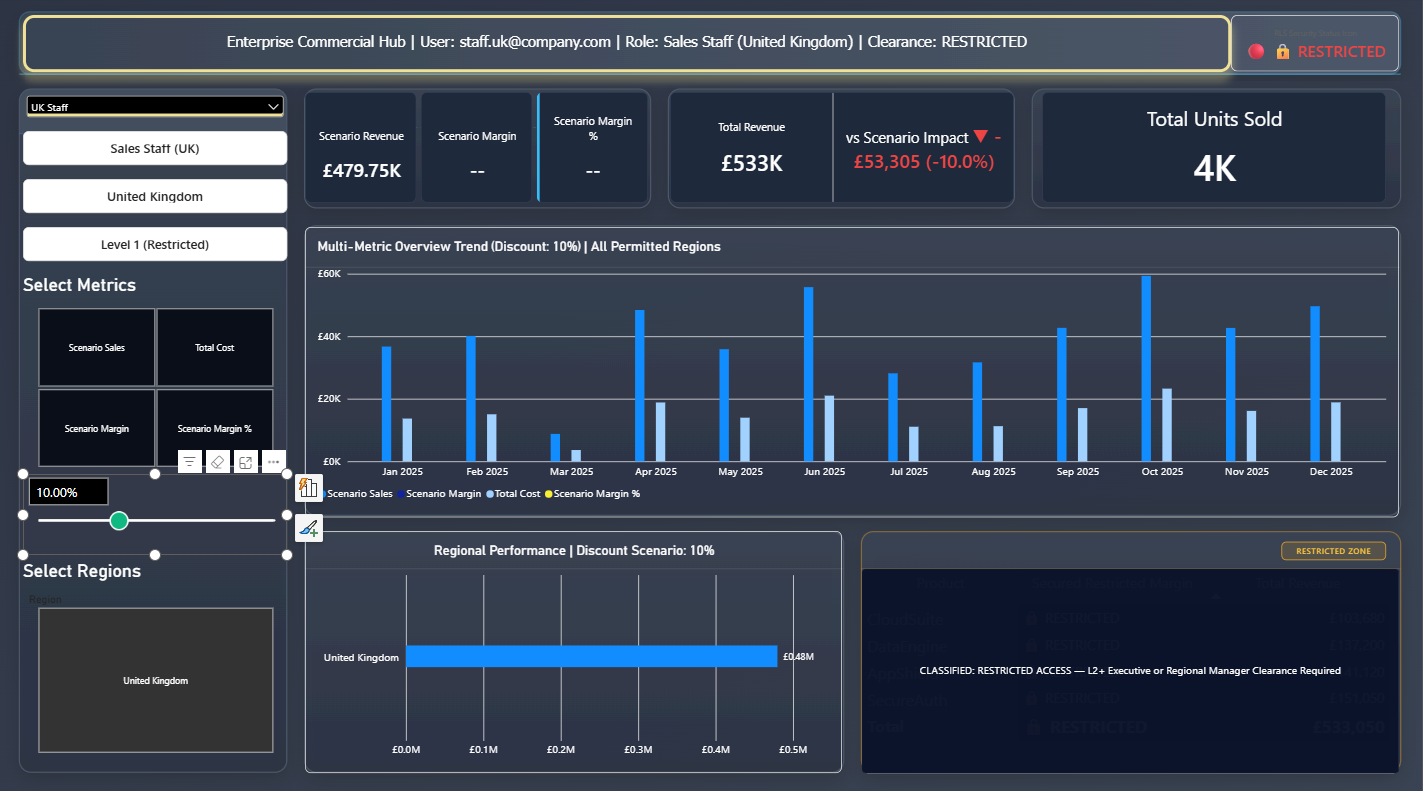

This screenshot's page, from the dashboard's own definition file:
{"tool":"powerbi","page":{"name":"Page 1","canvas":[1920,1080],"ordinal":0},"visuals":[{"type":"card","fields":{"Values":["Key Measures.Top Governance Banner"]},"box":[33.7,25.6,1626.7,76.8],"z":0},{"type":"slicer","title":"Select Metrics","fields":{"Values":["Metric Parameter.Metric Parameter"]},"box":[33.7,375.7,355.5,260],"z":1000},{"type":"slicer","fields":{"Values":["Discount Scenario.Discount Rate"]},"box":[33.7,643.9,355.5,109.1],"z":2000},{"type":"clusteredColumnChart","fields":{"Category":["DimDate.Month"],"Y":["Key Measures.Scenario Sales","Key Measures.Scenario Margin","Key Measures.Total Cost","Key Measures.Scenario Margin %"]},"box":[413.4,311.1,1473.2,390.5],"z":3000},{"type":"slicer","title":"Select Regions","fields":{"Values":["DimRegion.Region"]},"box":[33.7,761.2,355.5,260],"z":4000},{"type":"cardVisual","fields":{"Data":["Key Measures.RLS Security Status Icon"]},"box":[1660.4,25.6,226.2,76.8],"z":5000},{"type":"cardVisual","fields":{"Data":["Key Measures.Scenario Sales","Key Measures.Scenario Margin","Key Measures.Scenario Margin %"]},"box":[413.4,129.3,463.2,149.5],"z":6000},{"type":"cardVisual","fields":{"Data":["Key Measures.Total Revenue"]},"box":[904.9,129.3,463.2,149.5],"z":7000},{"type":"cardVisual","fields":{"Data":["Key Measures.Total Units Sold"]},"box":[1405.9,129.3,463.2,149.5],"z":8000},{"type":"pivotTable","fields":{"Rows":["FactSales.Product"],"Values":["Key Measures.Secured Restricted Margin","Key Measures.Total Revenue"]},"box":[1163.5,771.6,723.1,274.7],"z":9000},{"type":"actionButton","title":"Security Overlay Shield","box":[1163.5,771.6,723.1,274.7],"z":10000},{"type":"clusteredBarChart","fields":{"Category":["DimRegion.Region"],"Y":["Key Measures.Scenario Sales"]},"box":[413.4,720.4,723.1,325.9],"z":11000},{"type":"slicer","fields":{"Values":["Persona Table.PersonName"]},"box":[33.7,129.3,355.5,61.9],"z":12000},{"type":"card","fields":{"Values":["Key Measures.Display Role"]},"box":[33.7,181.8,355.5,45.8],"z":13000},{"type":"card","fields":{"Values":["Key Measures.Display Scope"]},"box":[33.7,246.4,355.5,45.8],"z":14000},{"type":"card","fields":{"Values":["Key Measures.Display Clearance"]},"box":[33.7,311.1,355.5,45.8],"z":15000}]}

Visuals, with their boxes in screenshot pixels (x1, y1, x2, y2), scaled from the page's 1920x1080 canvas onto the 1423x791 screenshot:
card - Key Measures.Top Governance Banner: BBox(25, 19, 1231, 75)
"Select Metrics" slicer: BBox(25, 275, 288, 466)
slicer - Discount Scenario.Discount Rate: BBox(25, 472, 288, 552)
clusteredColumnChart - DimDate.Month x Key Measures.Scenario Sales: BBox(306, 228, 1398, 514)
"Select Regions" slicer: BBox(25, 558, 288, 748)
cardVisual - Key Measures.RLS Security Status Icon: BBox(1231, 19, 1398, 75)
cardVisual - Key Measures.Scenario Sales x Key Measures.Scenario Margin: BBox(306, 95, 650, 204)
cardVisual - Key Measures.Total Revenue: BBox(671, 95, 1014, 204)
cardVisual - Key Measures.Total Units Sold: BBox(1042, 95, 1385, 204)
pivotTable - FactSales.Product x Key Measures.Secured Restricted Margin: BBox(862, 565, 1398, 766)
"Security Overlay Shield" actionButton: BBox(862, 565, 1398, 766)
clusteredBarChart - DimRegion.Region x Key Measures.Scenario Sales: BBox(306, 528, 842, 766)
slicer - Persona Table.PersonName: BBox(25, 95, 288, 140)
card - Key Measures.Display Role: BBox(25, 133, 288, 167)
card - Key Measures.Display Scope: BBox(25, 180, 288, 214)
card - Key Measures.Display Clearance: BBox(25, 228, 288, 261)
